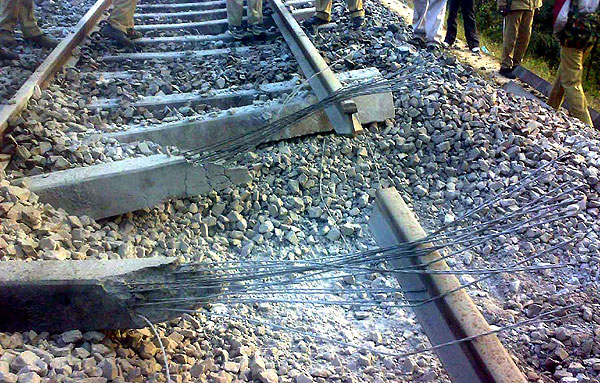crack: (130, 59, 469, 350)
